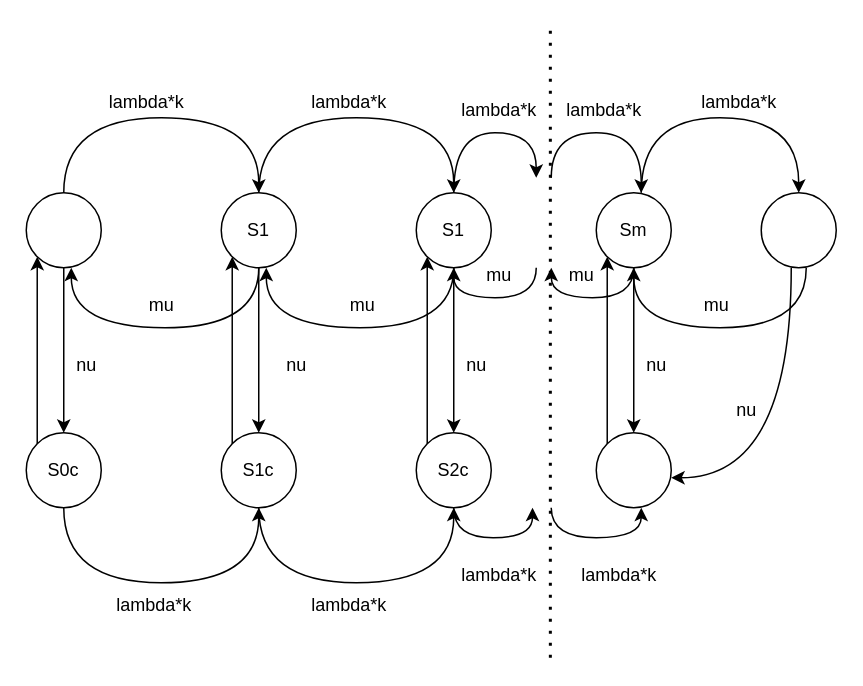
This 863x686 diagram has some shape labels left out. Here are the shapes that lost their labels. From the top down, the centre of each, then its label:
At point (63, 229): "S0".
At point (798, 229): "Sm+1".
At point (633, 469): "Smc".
